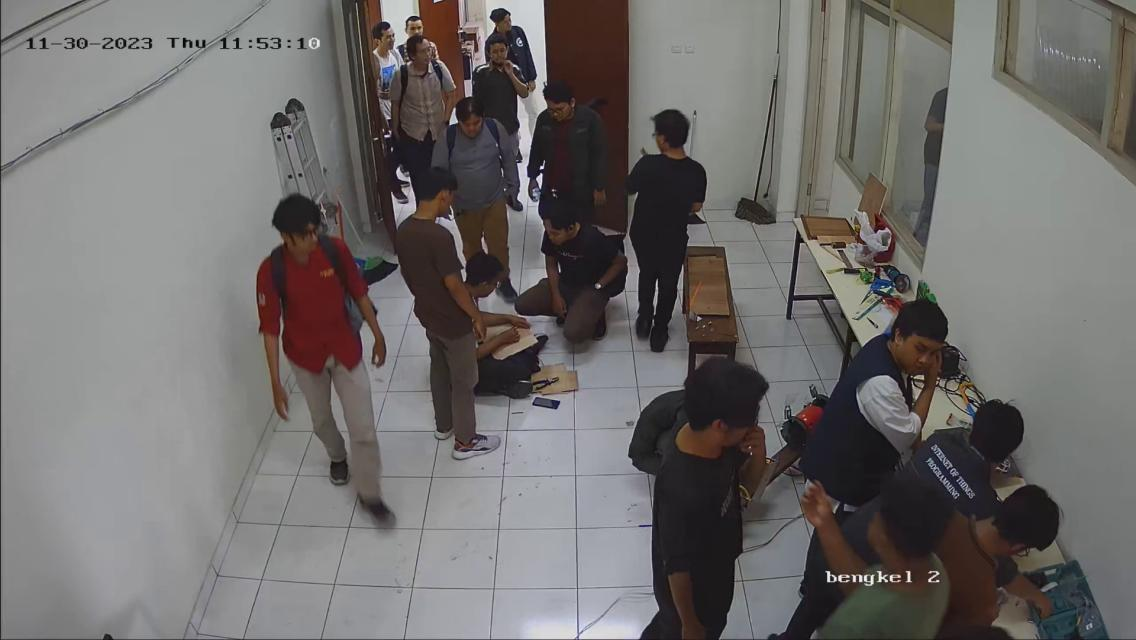Crowd: (224, 7, 743, 522)
